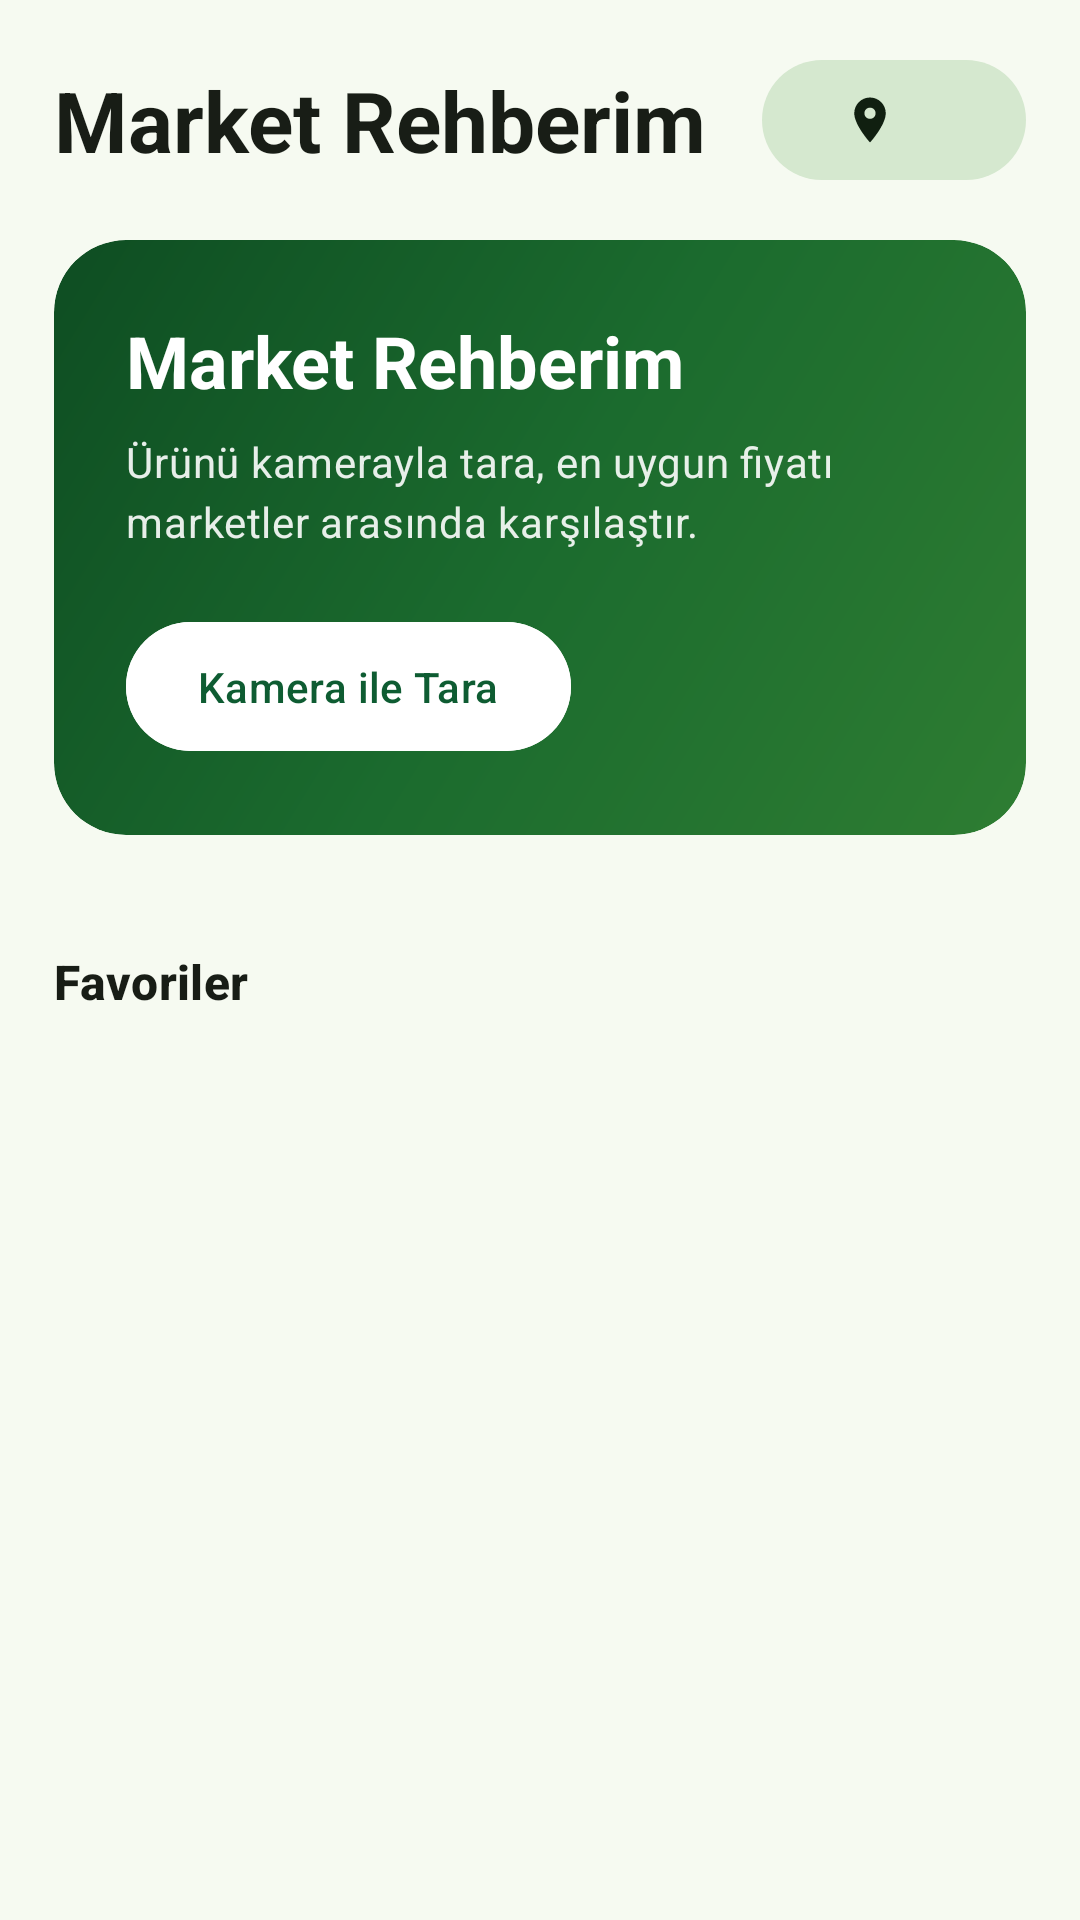

Where to tap for icons on this 1080px×1920px app screen, as (x,y):
location: (894,120)
